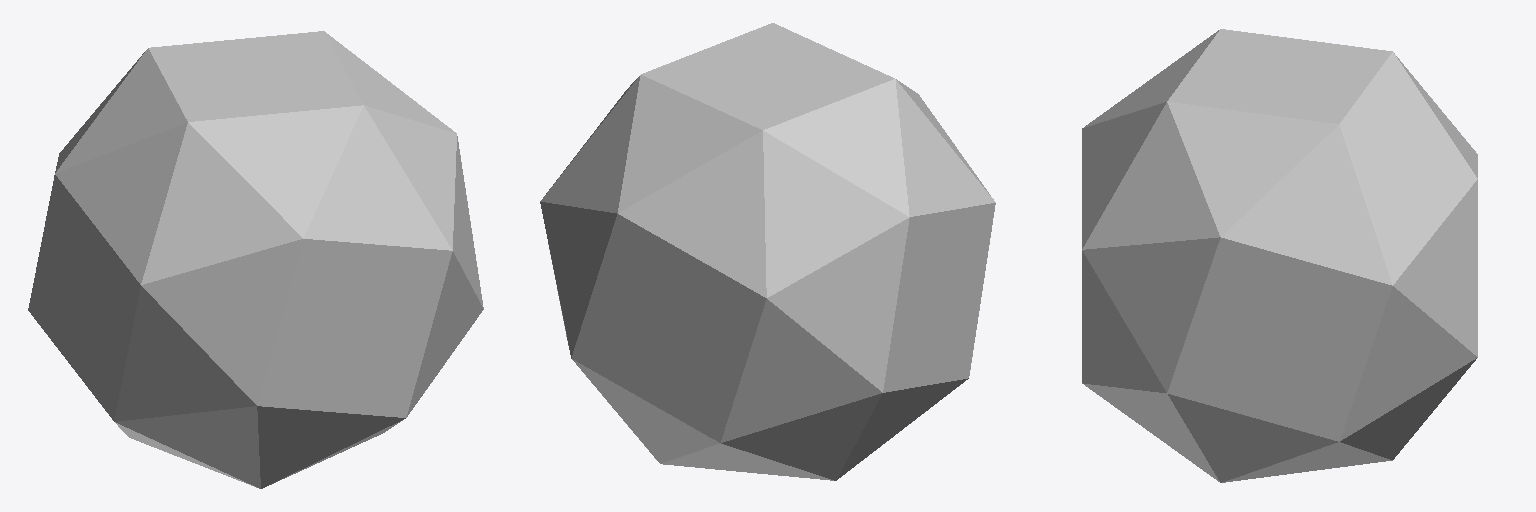
Rendered from snubcube.obj.
3 renders of one model, left to right at view 1: azimuth 30°, elevation 25°; view 2: azimuth 150°, elevation 25°; view 3: azimuth 270°, elevation 25°, orthographic.
Parts seen in each view (by area): view 1: snubcube; view 2: snubcube; view 3: snubcube.
Part boxes in pixels (left/top/right/bottom): snubcube: left=28, top=31, right=483, bottom=488; snubcube: left=540, top=23, right=995, bottom=480; snubcube: left=1082, top=29, right=1477, bottom=482.
Bounding box in the file's own units: 2 × 2 × 2.